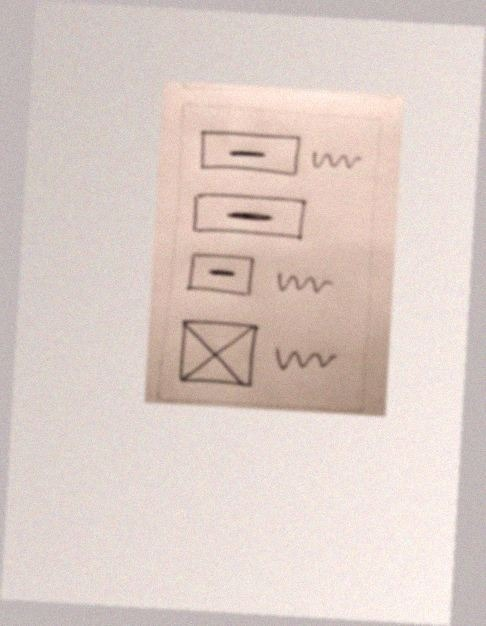button: (187, 190, 309, 246), (195, 127, 303, 182), (183, 251, 258, 300)
image: (174, 316, 261, 393)
text: (270, 269, 339, 302), (272, 344, 341, 377), (308, 147, 365, 176)
